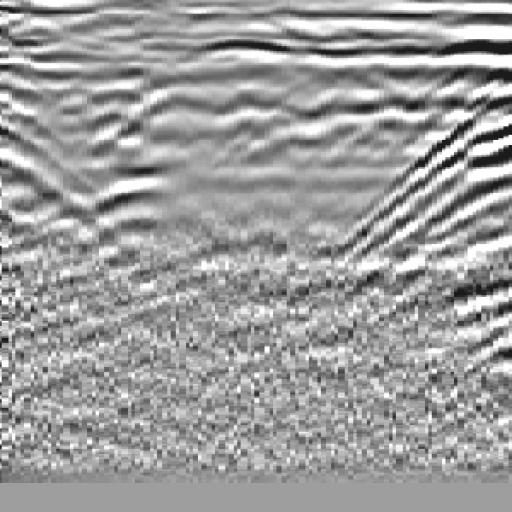metalic: (59, 37, 223, 298)
nonmetalic: (375, 50, 512, 305)
